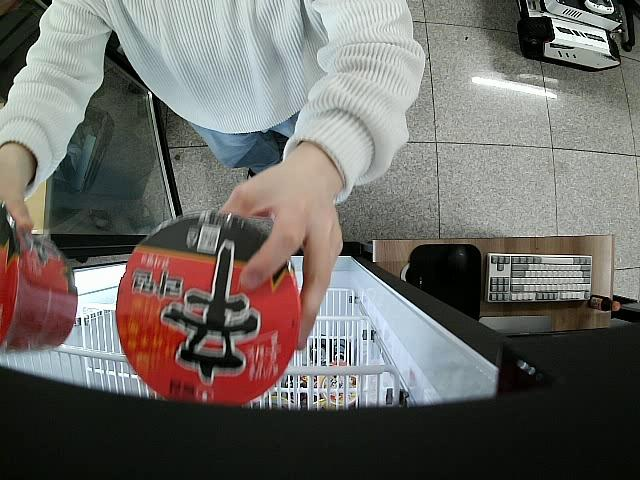00_hand: (222, 141, 346, 349)
01_shinRamen_L: (116, 208, 304, 402), (0, 200, 79, 355)
